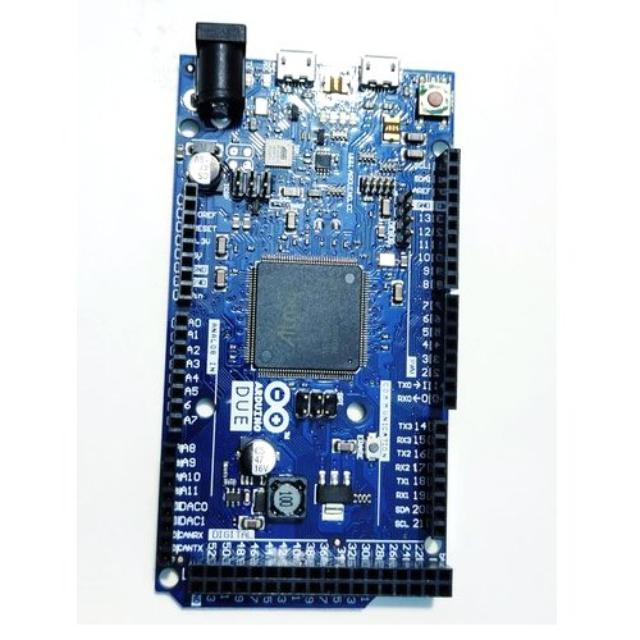Arduino-Due: (156, 23, 460, 610)
